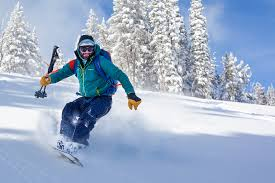snowboard: (48, 143, 86, 170)
